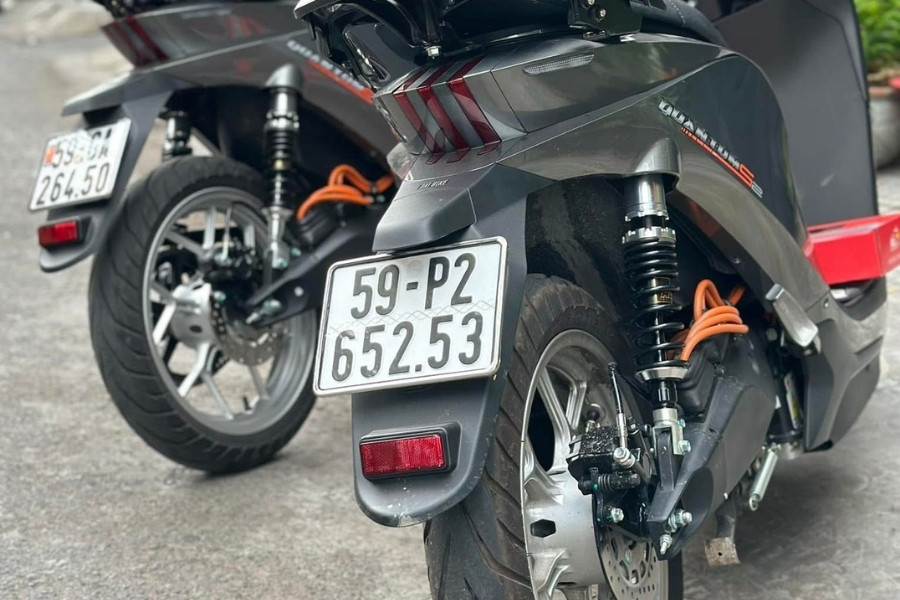Bien-so: (315, 235, 508, 389), (28, 119, 131, 214)
